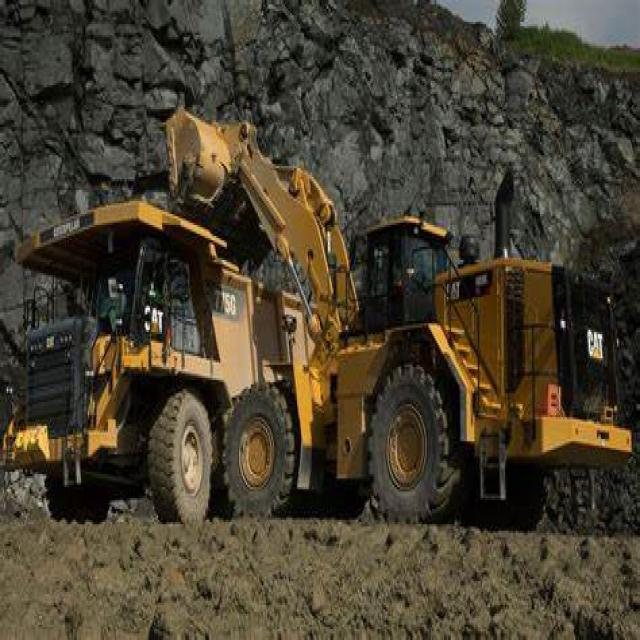buldozerpayloadergrader: (164, 100, 638, 533)
dump_truck: (2, 192, 242, 540)
